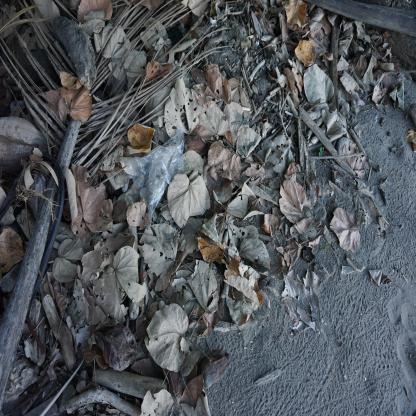plastik: (128, 123, 186, 215)
